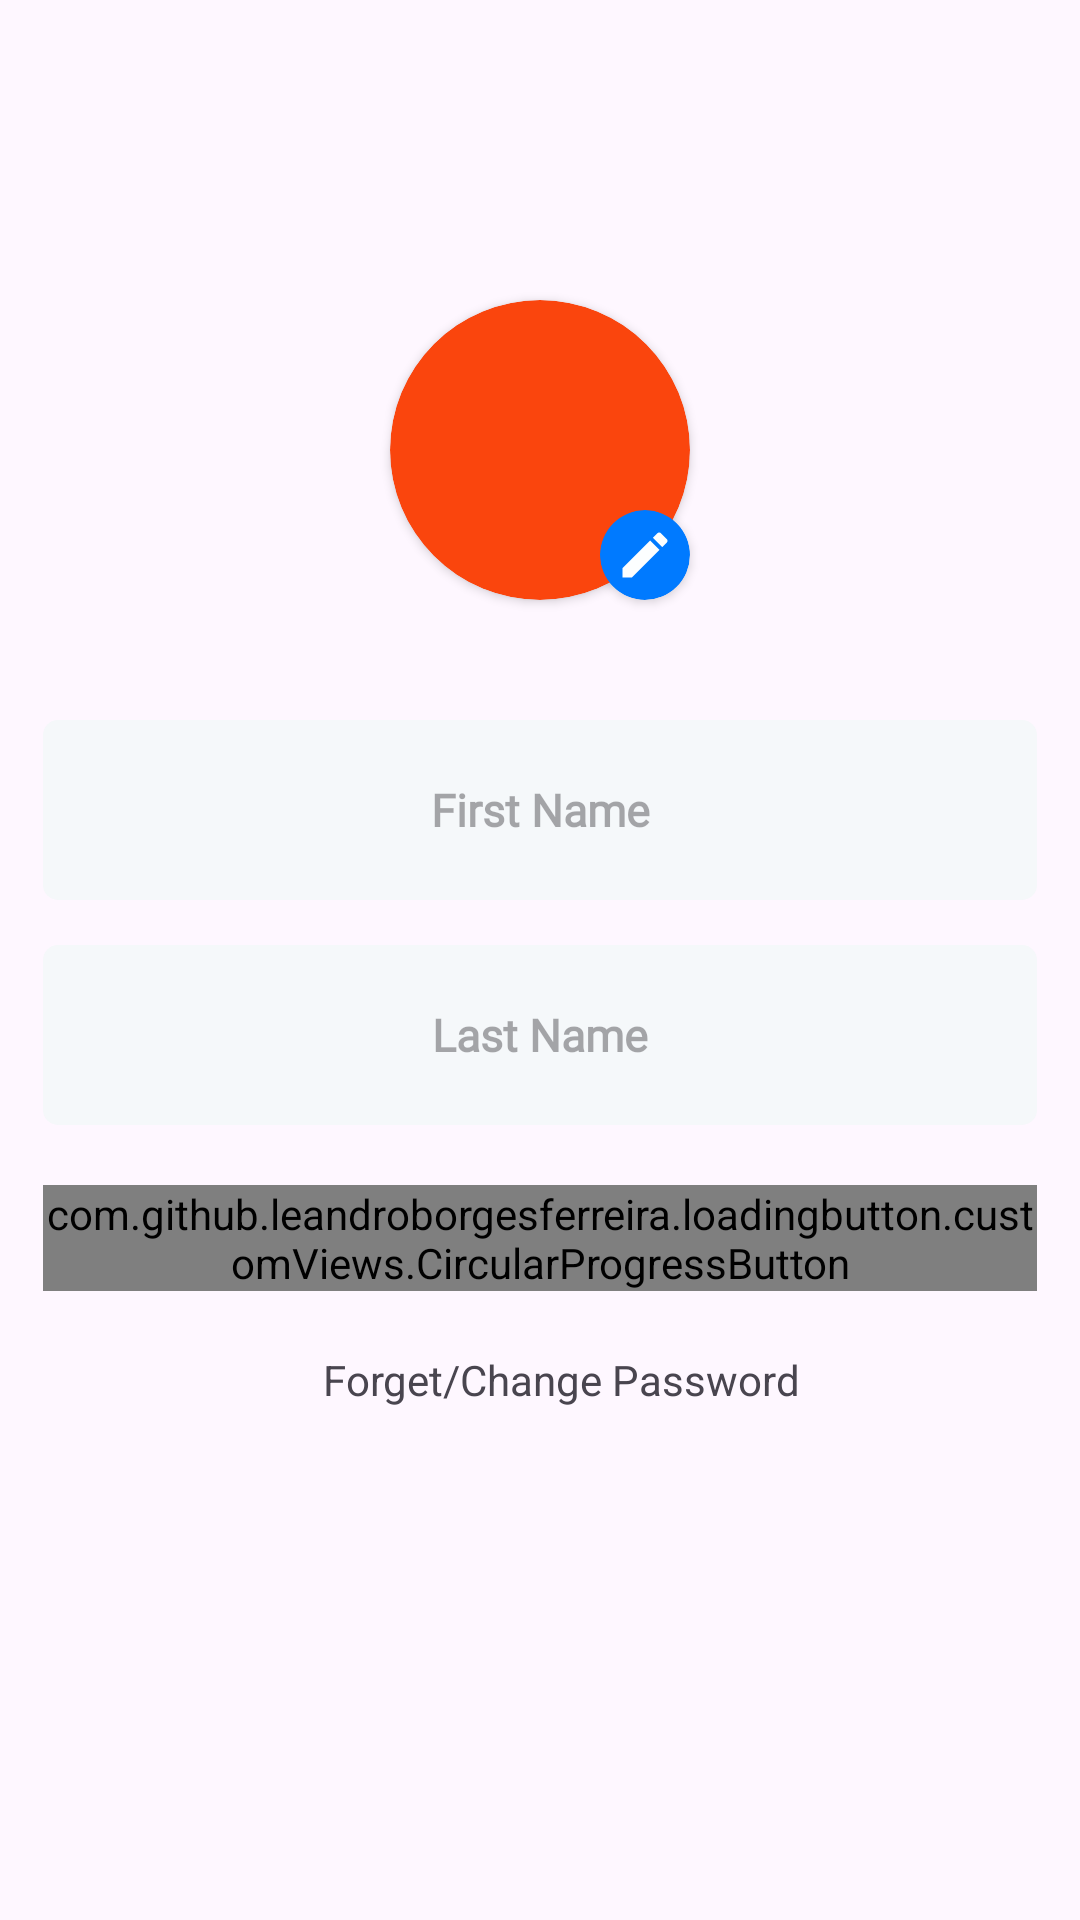

Point at icon controls on the screen. Image size 1080 × 1920, points as (x,y).
edit: (645,555)
